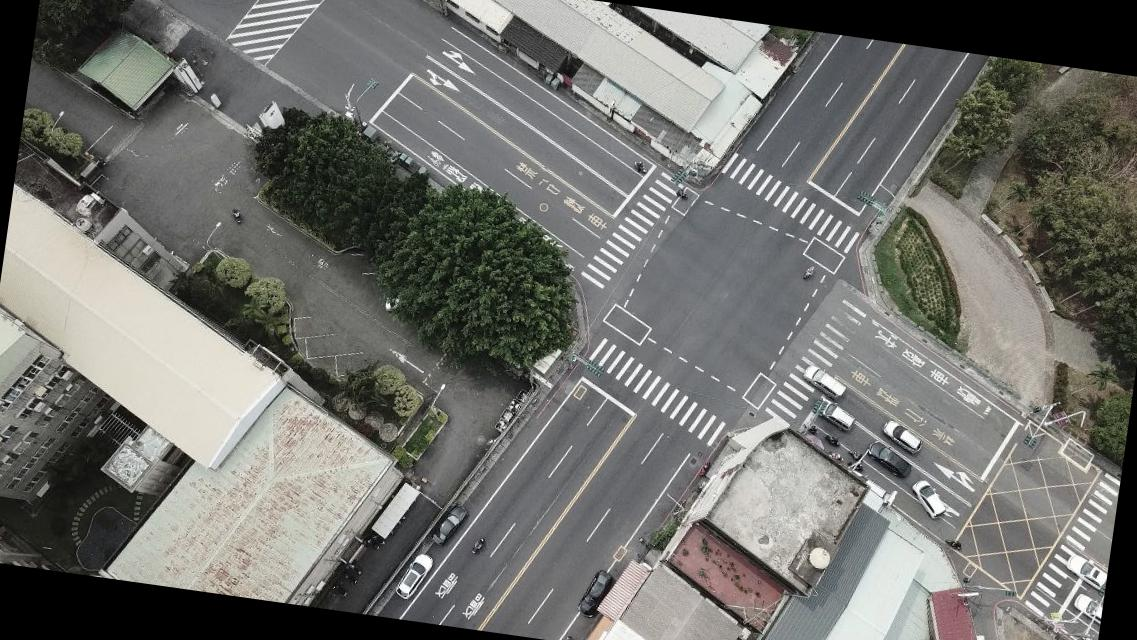vehicle: (429, 496, 472, 551), (394, 549, 436, 604), (574, 566, 614, 622), (907, 478, 952, 522), (862, 441, 914, 479), (799, 364, 848, 403), (810, 395, 858, 434), (1062, 550, 1108, 590), (878, 418, 925, 456), (1070, 592, 1102, 628)
